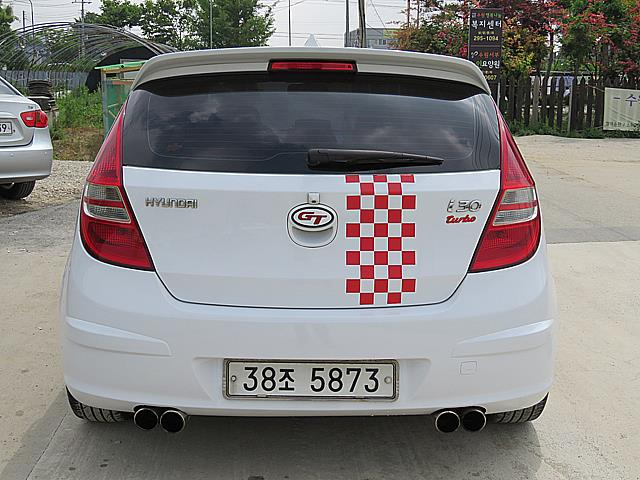plate: (228, 362, 394, 397)
